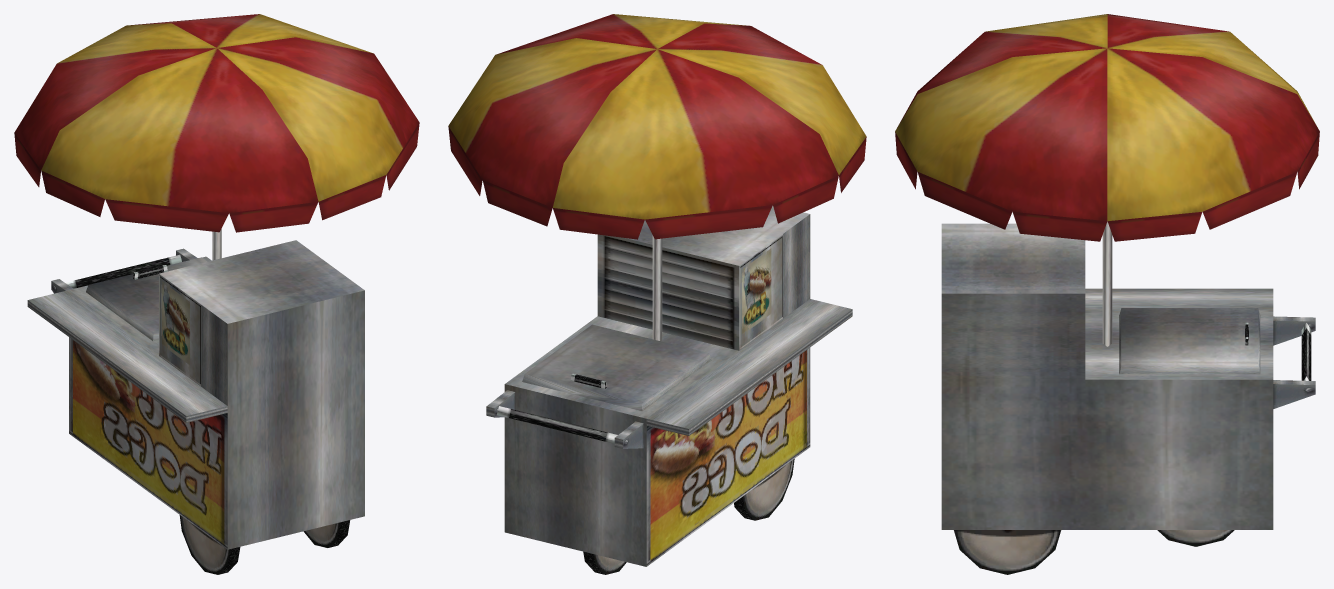
Rendered from hotdog_cart.fbx.
3 views of the same model, side by side, from view 1: azimuth 30°, elevation 25°; view 2: azimuth 150°, elevation 25°; view 3: azimuth 270°, elevation 25° (orthographic). The views are drawn at different scales.
Visible parts, largest first — view 1: mesh_0; view 2: mesh_0; view 3: mesh_0.
Boxes of the visible parts, box(x1,y1,x2,y2) form: mesh_0: box(14, 14, 419, 574); mesh_0: box(448, 14, 866, 574); mesh_0: box(895, 14, 1319, 574).
Size of the model in its own units: 192 by 247 by 192.
Materials: 1 (1 with a texture image).
